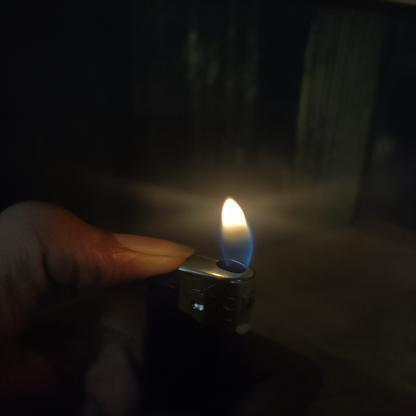Fire: (212, 189, 254, 248)
